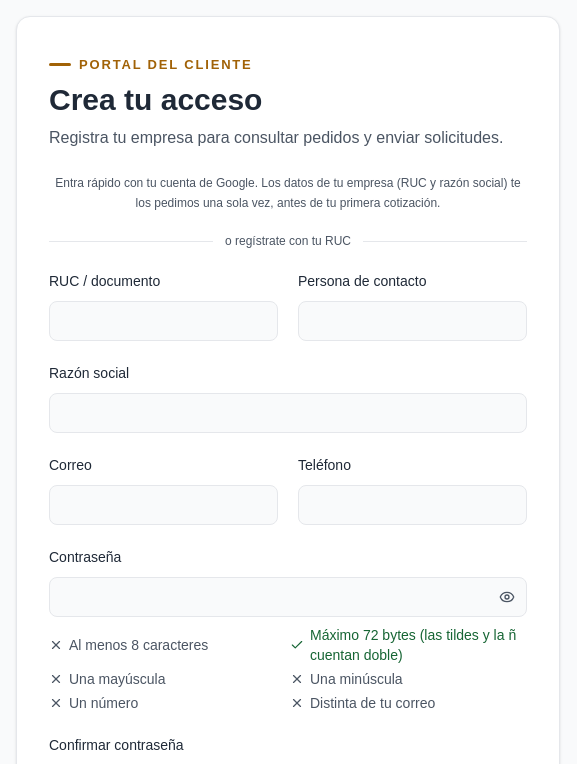
Test: RegistroClientePage: RUC → razón social (7.1) › con un RUC que no empieza con 10 o 20 avisa y no consulta
Type "30123456789" into the field labelled "RUC / documento" at (164, 321), box [49,301,278,341]
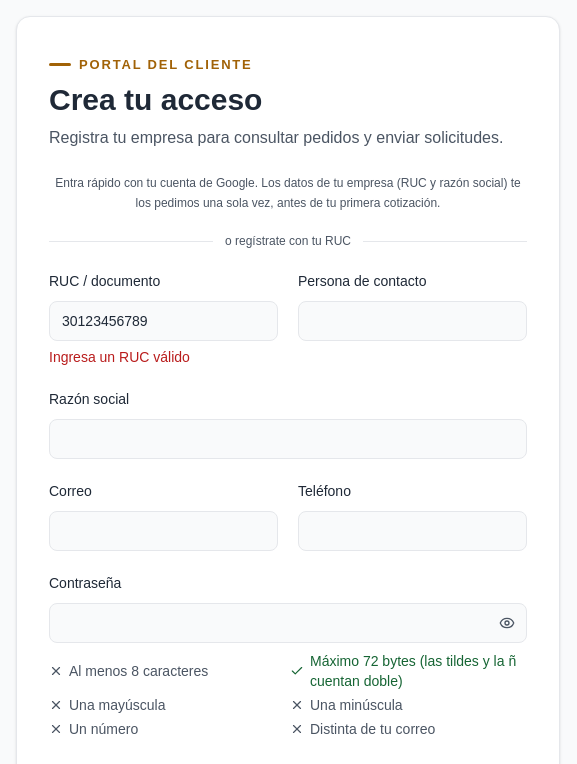
expect the text "Ingresa un RUC válido" is shown: met, box [49,349,190,365]
